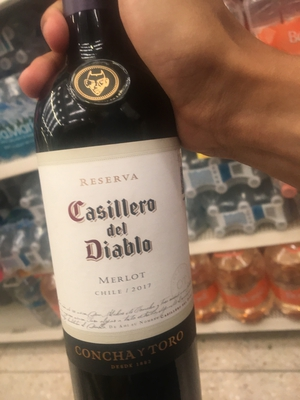casillero del diablo merlot: (33, 13, 206, 400)
